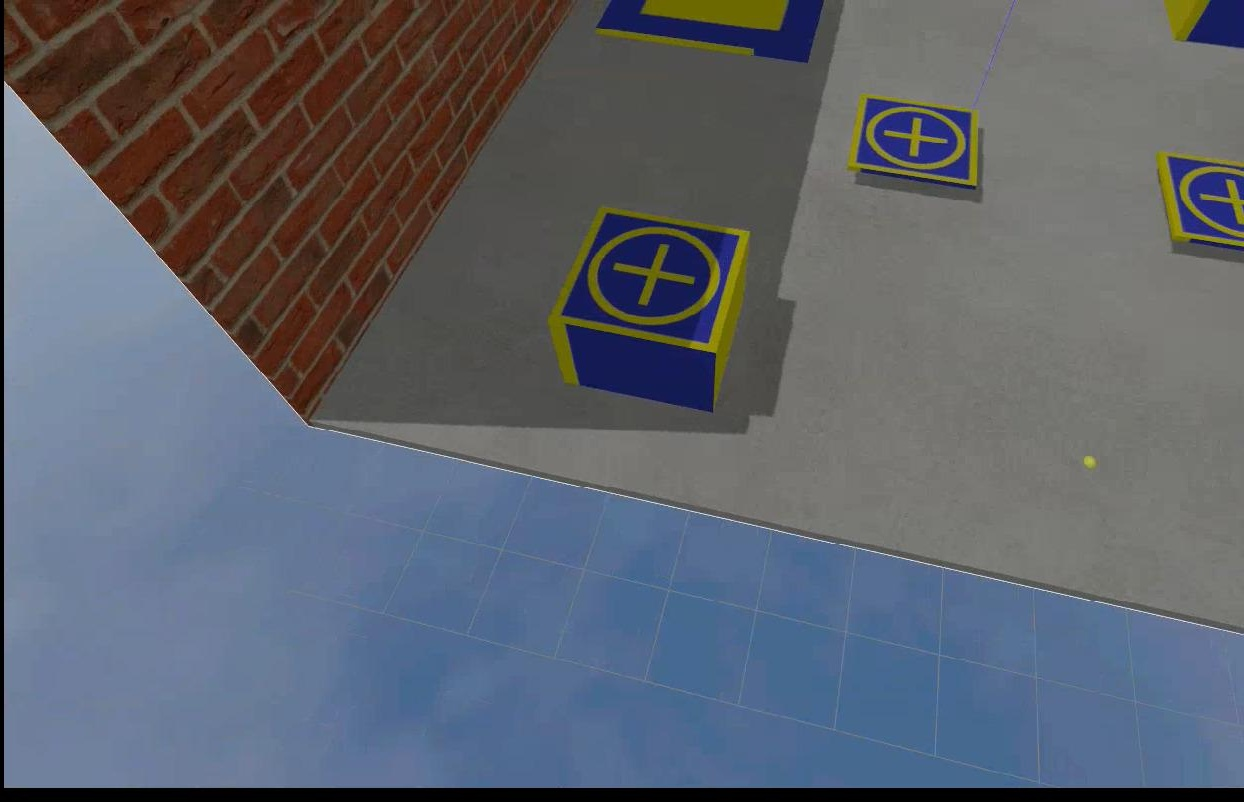large_base: (592, 1, 826, 67)
small_base: (545, 202, 751, 353), (841, 94, 980, 192), (1153, 150, 1242, 254)
